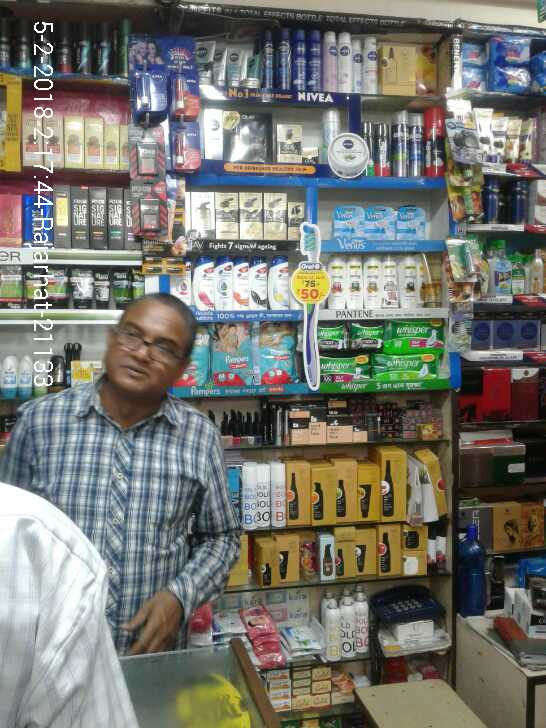gillete: (424, 107, 444, 176), (394, 112, 411, 178), (396, 208, 426, 240), (366, 208, 396, 240), (333, 208, 366, 237), (375, 121, 392, 176), (411, 112, 424, 176), (365, 121, 375, 178)
